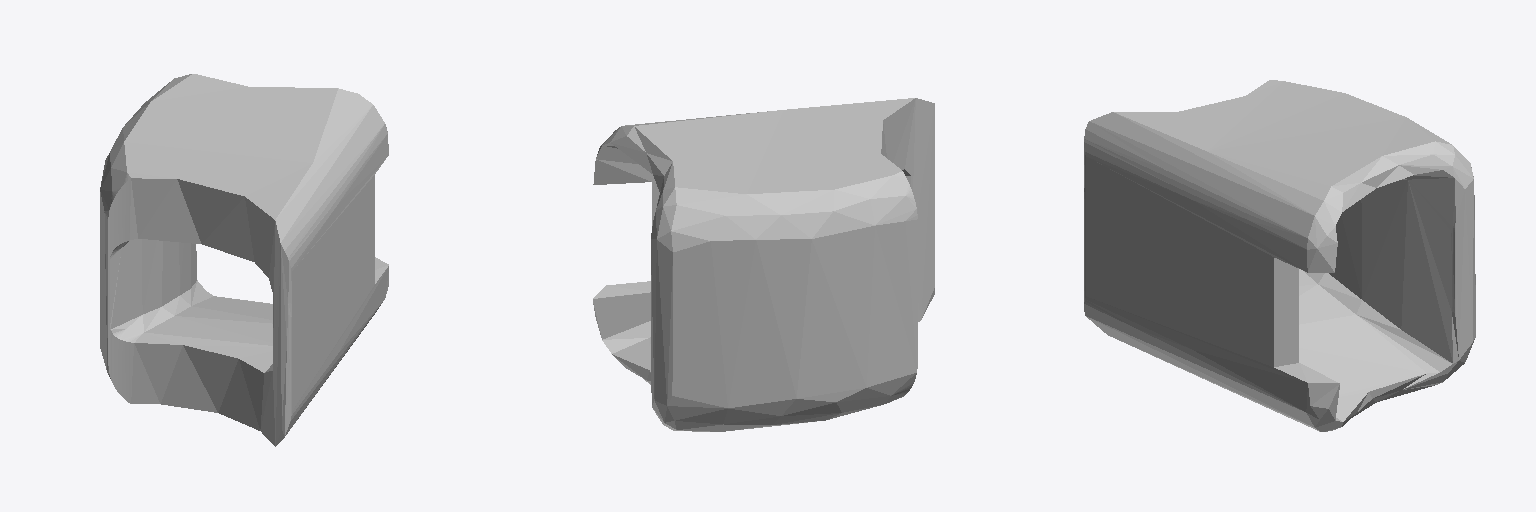
Rendered from right_collision_index_pp_skin_mesh_mesh.obj.
The picture shows the model from 3 angles: view 1: azimuth 30°, elevation 25°; view 2: azimuth 150°, elevation 25°; view 3: azimuth 270°, elevation 25°; orthographic projection.
Bounding box in the file's own units: 0.0263 × 0.0207 × 0.03.